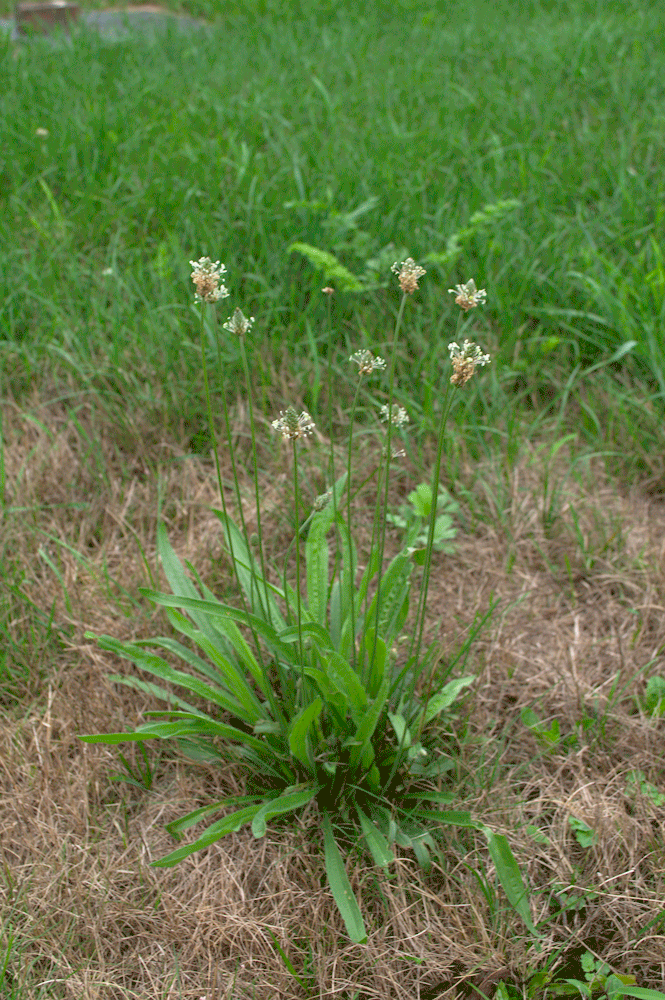buckhorn plantain: (114, 252, 527, 841)
